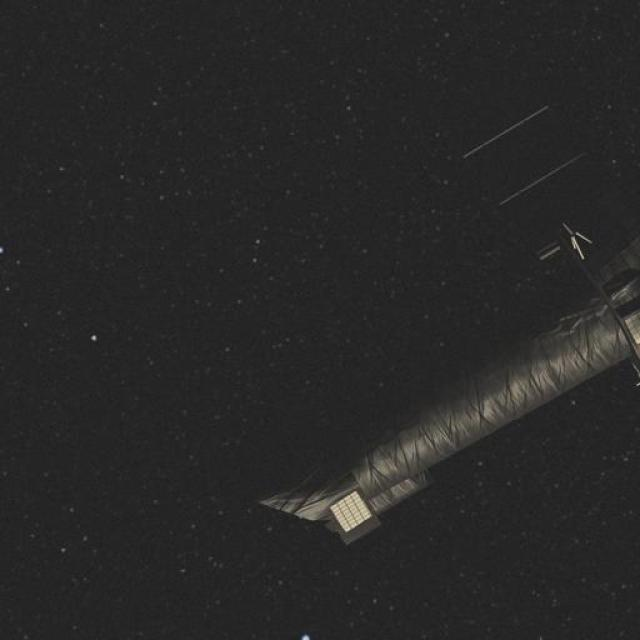xmm_newton: (254, 236, 640, 560)
